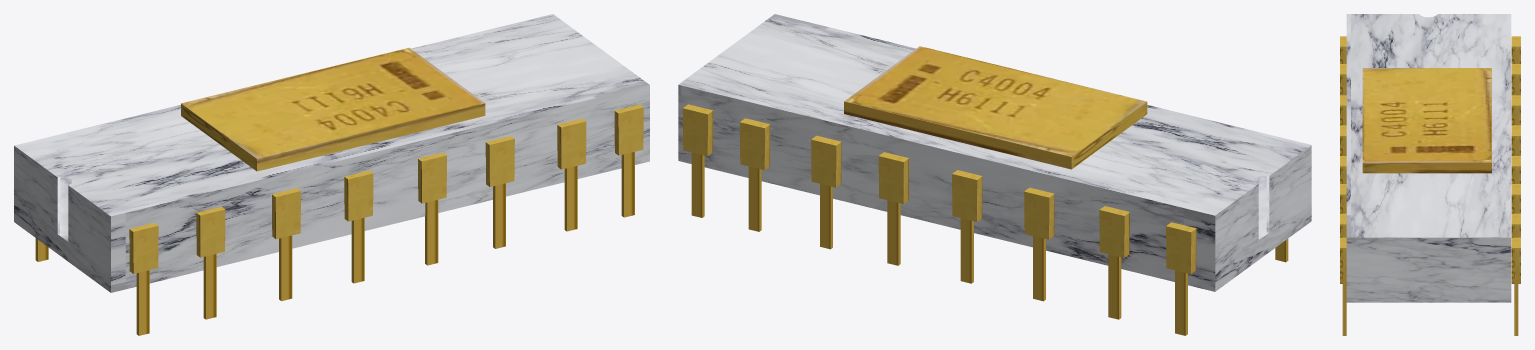
File: intel4004.glb
3 renders of one model, left to right at view 1: azimuth 30°, elevation 25°; view 2: azimuth 150°, elevation 25°; view 3: azimuth 270°, elevation 25°, orthographic. The views are drawn at different scales.
Parts seen in each view (by area): view 1: Object_4, Object_8, Object_10, Object_6, Object_38, Object_20, Object_14, Object_28, Object_16; view 2: Object_4, Object_8, Object_20, Object_10, Object_6, Object_14, Object_16, Object_12; view 3: Object_4, Object_8, Object_20, Object_10, Object_38, Object_14, Object_6, Object_16, Object_12, Object_28.
Boxes of the visible parts, x1,y1,x2,y2 form: Object_4: (14, 14, 649, 292); Object_8: (181, 47, 485, 171); Object_10: (196, 136, 514, 319); Object_6: (35, 223, 158, 335); Object_38: (614, 104, 643, 217); Object_20: (557, 118, 586, 231); Object_14: (344, 170, 373, 283); Object_28: (272, 188, 300, 301); Object_16: (418, 152, 446, 265); Object_4: (678, 14, 1311, 291); Object_8: (844, 46, 1147, 169); Object_20: (682, 104, 770, 231); Object_10: (811, 135, 1129, 319); Object_6: (1166, 222, 1288, 335); Object_14: (952, 170, 982, 283); Object_16: (878, 152, 909, 265); Object_12: (1024, 187, 1054, 301); Object_4: (1346, 14, 1511, 302); Object_8: (1362, 68, 1491, 173); Object_20: (1340, 213, 1520, 335); Object_10: (1340, 64, 1520, 213); Object_38: (1340, 237, 1346, 335); Object_14: (1340, 125, 1520, 155); Object_6: (1340, 36, 1520, 63); Object_16: (1340, 156, 1520, 183); Object_12: (1511, 95, 1520, 125); Object_28: (1340, 95, 1346, 125).
Bounding box in the file's own units: 4.72 × 1.14 × 1.61.
Materials: 10 (10 with a texture image).
